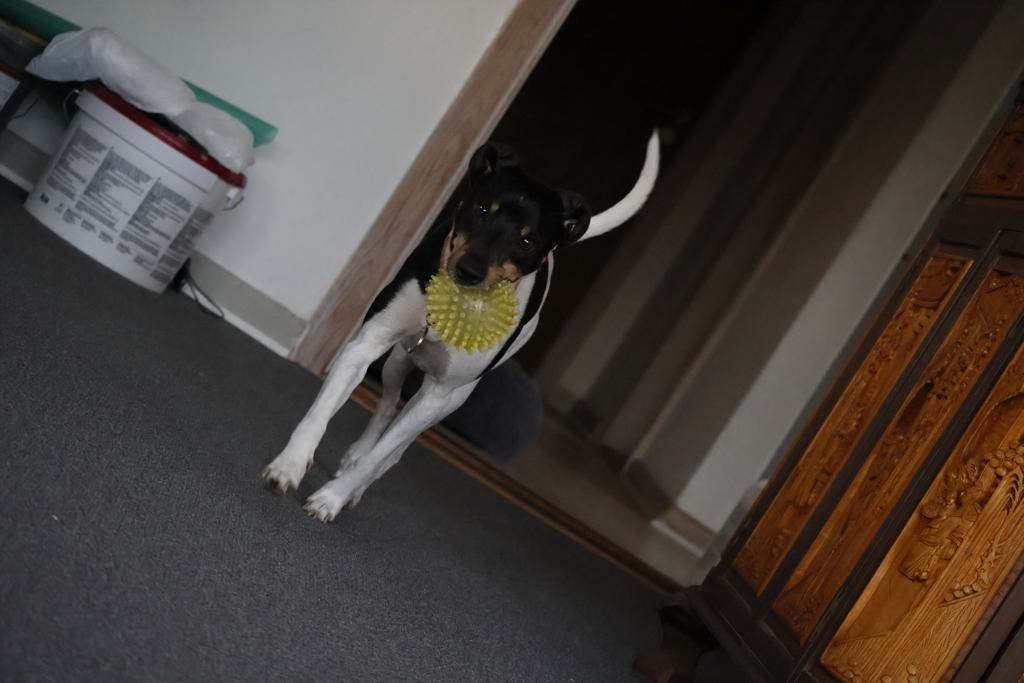Dog: (241, 102, 682, 532)
